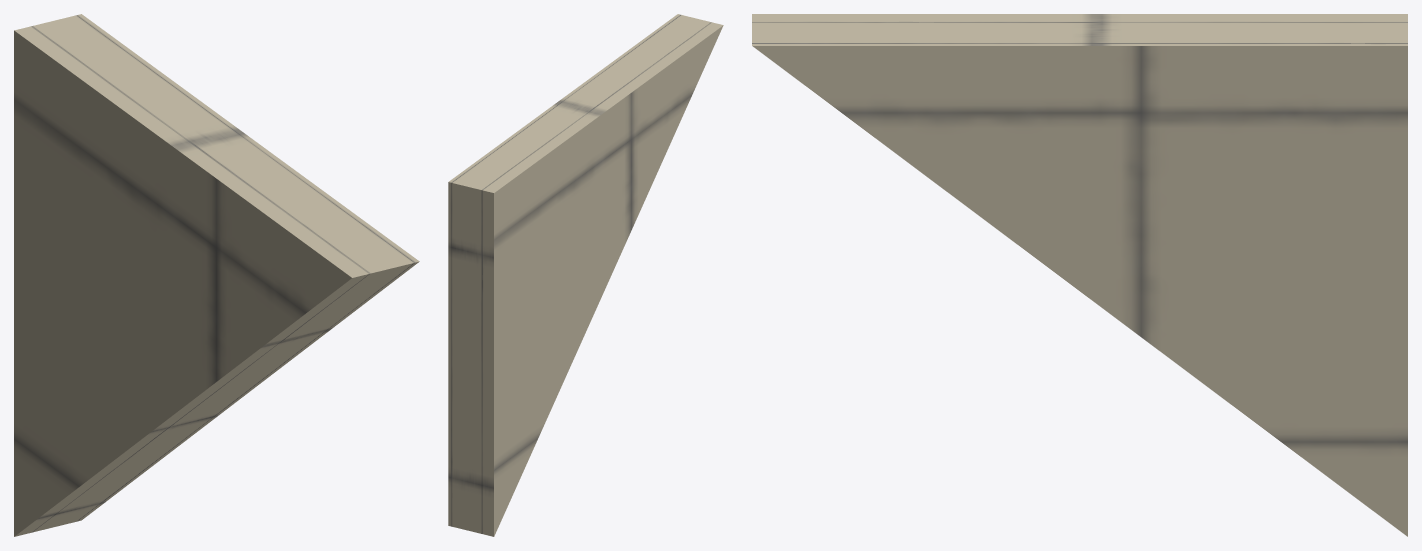
File: glass support.fbx
The picture shows the model from 3 angles, left to right: view 1: azimuth 30°, elevation 25°; view 2: azimuth 150°, elevation 25°; view 3: azimuth 270°, elevation 25°; orthographic projection. The views are drawn at different scales.
Visible parts, largest first — view 1: glass_support; view 2: glass_support; view 3: glass_support.
Part boxes in pixels (x1,y1,x2,y2): glass_support: (14, 14, 419, 536); glass_support: (448, 14, 723, 536); glass_support: (752, 14, 1407, 536).
Bounding box in the file's own units: 4.28 × 30.7 × 37.15.
